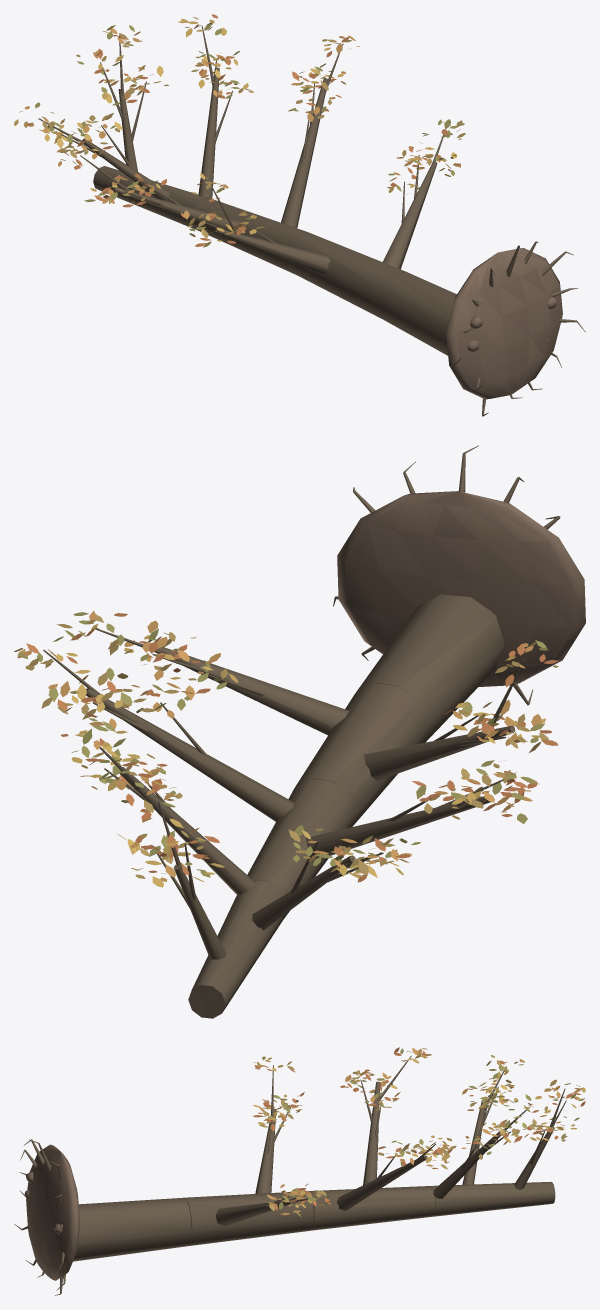
Rendered from cabin_fallen_tree_a.glb.
3 views of the same model, one above another, from view 1: azimuth 30°, elevation 25°; view 2: azimuth 150°, elevation 25°; view 3: azimuth 270°, elevation 25° (orthographic). The views are drawn at different scales.
Parts seen in each view (by area): view 1: body; view 2: body; view 3: body.
Boxes of the visible parts, box(x1,y1,x2,y2) form: body: box(14, 14, 585, 416); body: box(14, 445, 585, 1018); body: box(14, 1047, 585, 1295).
Size of what is drawn, in the model's own units: 6.41 by 3.33 by 10.28.
